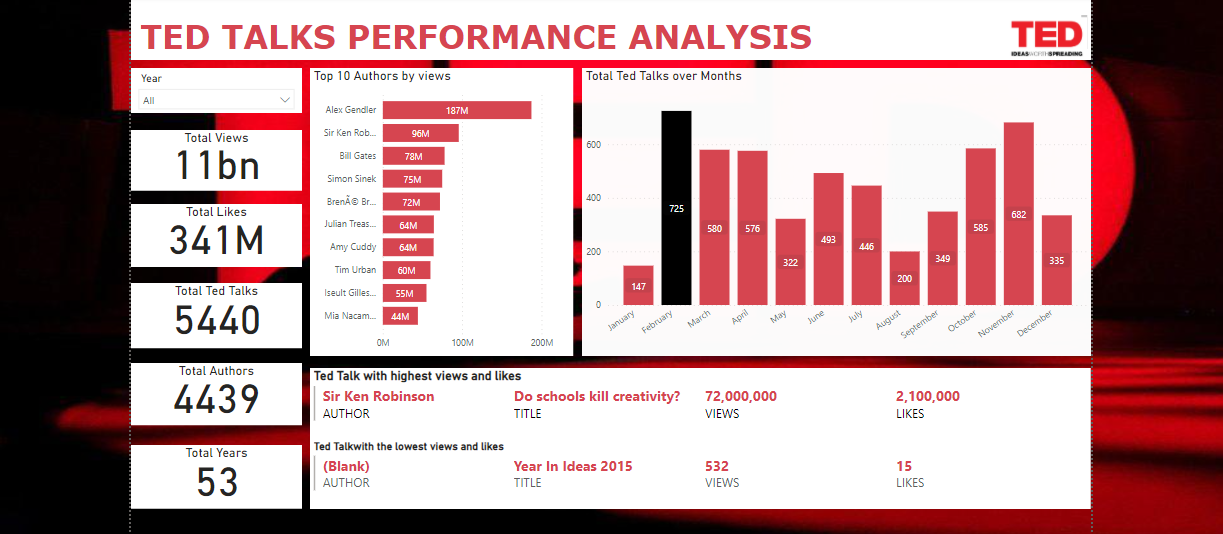

This screenshot's page, from the dashboard's own definition file:
{"tool":"powerbi","page":{"name":"Page 1","canvas":[1280,720],"ordinal":0},"visuals":[{"type":"card","title":"Total Views","fields":{"Values":["Sheet1.VIEWS"]},"box":[0,278,228.5,82.6],"z":0},{"type":"textbox","box":[0,0,1280,84],"z":1000},{"type":"clusteredBarChart","title":"Top 10 Authors by views","fields":{"Category":["Sheet1.AUTHOR"],"Y":["Sheet1.VIEWS"]},"box":[238.7,94.7,344,388],"z":2000},{"type":"card","title":"Total Years","fields":{"Values":["Sheet1.DATE.Variation.Date Hierarchy.Year"]},"box":[0,590.7,228,77.3],"z":4000},{"type":"card","title":"Total Authors","fields":{"Values":["Sheet1.AUTHOR"]},"box":[0,378.5,228.5,82.6],"z":5000},{"type":"card","title":"Total Likes","fields":{"Values":["Sheet1.LIKES"]},"box":[0,181.7,228.5,84],"z":6000},{"type":"slicer","fields":{"Values":["Sheet1.DATE.Variation.Date Hierarchy.Year"]},"box":[0,107.4,228.5,60.6],"z":7000},{"type":"clusteredColumnChart","title":"Total Ted Talks over Months","fields":{"Category":["Sheet1.DATE.Variation.Date Hierarchy.Month"],"Y":["Sheet1.VIEWS"]},"box":[592,94.7,688,388],"z":8000},{"type":"multiRowCard","title":"Ted Talk with highest views and likes","fields":{"Values":["Sheet1.AUTHOR","Sheet1.TITLE","Sheet1.VIEWS","Sheet1.LIKES"]},"box":[238.7,508,1041.3,96],"z":9000},{"type":"multiRowCard","title":"Ted Talkwith the lowest views and likes","fields":{"Values":["Sheet1.AUTHOR","Sheet1.TITLE","Sheet1.VIEWS","Sheet1.LIKES"]},"box":[238.7,604,1041.3,92],"z":10000},{"type":"image","box":[0,0,114.7,113.3],"z":10001},{"type":"card","title":"Total Ted Talks","fields":{"Values":["Sheet1.VIEWS"]},"box":[0,482.7,228,86.7],"z":10002}]}

Visuals, with their boxes in screenshot pixels (x1, y1, x2, y2):
"Total Views" card: {"x1": 124, "y1": 195, "x2": 298, "y2": 258}
textbox: {"x1": 124, "y1": 0, "x2": 1097, "y2": 48}
"Top 10 Authors by views" clusteredBarChart: {"x1": 306, "y1": 56, "x2": 567, "y2": 351}
"Total Years" card: {"x1": 124, "y1": 433, "x2": 297, "y2": 492}
"Total Authors" card: {"x1": 124, "y1": 272, "x2": 298, "y2": 334}
"Total Likes" card: {"x1": 124, "y1": 122, "x2": 298, "y2": 186}
slicer - Sheet1.DATE.Variation.Date Hierarchy.Year: {"x1": 124, "y1": 66, "x2": 298, "y2": 112}
"Total Ted Talks over Months" clusteredColumnChart: {"x1": 574, "y1": 56, "x2": 1097, "y2": 351}
"Ted Talk with highest views and likes" multiRowCard: {"x1": 306, "y1": 370, "x2": 1097, "y2": 443}
"Ted Talkwith the lowest views and likes" multiRowCard: {"x1": 306, "y1": 443, "x2": 1097, "y2": 513}
image: {"x1": 124, "y1": 0, "x2": 211, "y2": 70}
"Total Ted Talks" card: {"x1": 124, "y1": 351, "x2": 297, "y2": 417}
